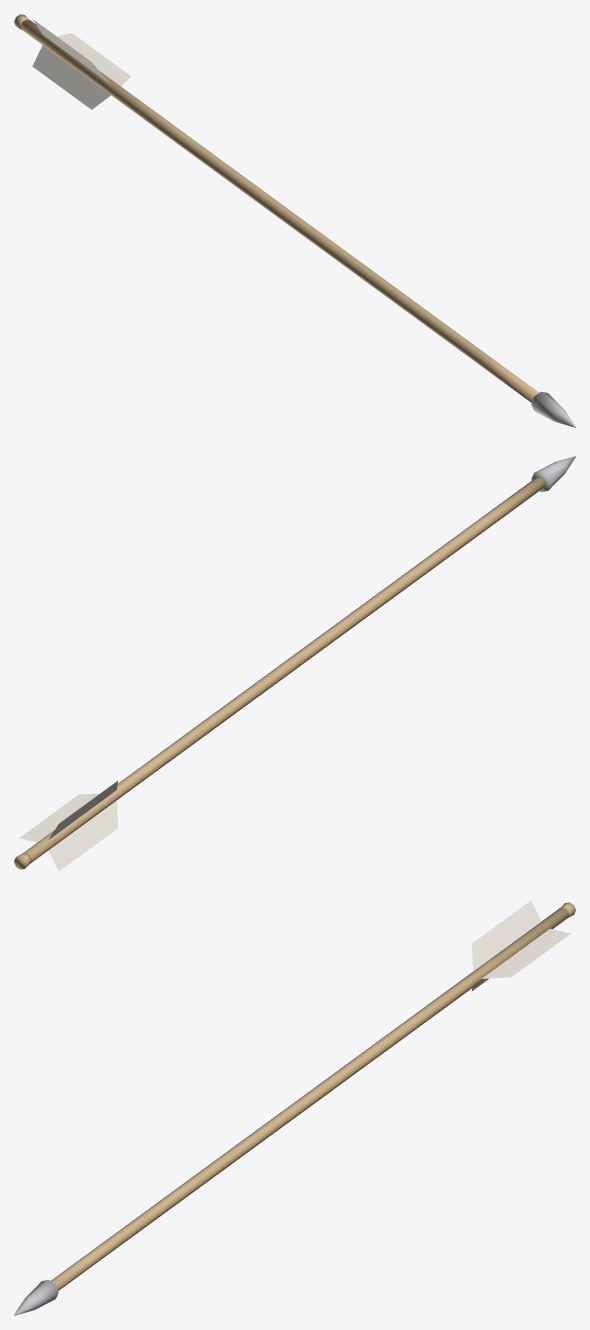
The model's file is Archer_Arrow.fbx.
3 renders of one model, top to bottom at view 1: azimuth 30°, elevation 25°; view 2: azimuth 150°, elevation 25°; view 3: azimuth 330°, elevation 25°, orthographic.
Visible parts, largest first — view 1: Archer_Arrow; view 2: Archer_Arrow; view 3: Archer_Arrow.
Boxes of the visible parts, x1=… form: Archer_Arrow: x1=14, y1=14, x2=575, y2=427; Archer_Arrow: x1=14, y1=456, x2=575, y2=871; Archer_Arrow: x1=14, y1=900, x2=575, y2=1315.
Size of the model in its own units: 0.03 by 0.0346 by 0.728.
